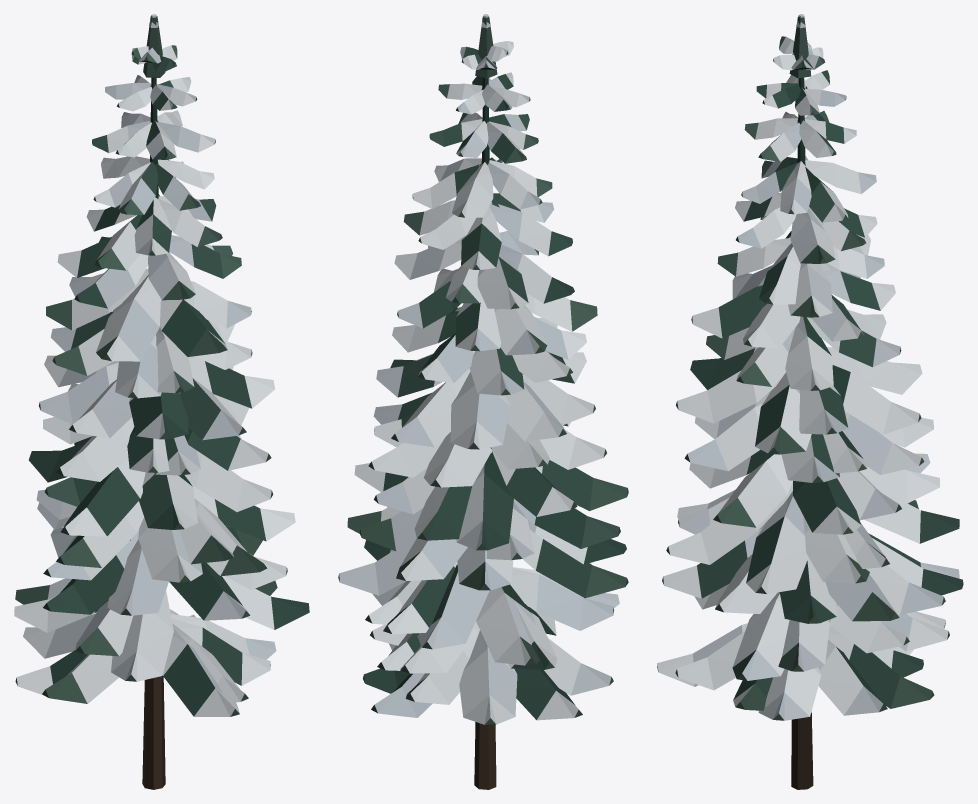
File: pine-snow.glb
The picture shows the model from 3 angles, left to right: view 1: azimuth 30°, elevation 25°; view 2: azimuth 150°, elevation 25°; view 3: azimuth 270°, elevation 25°; orthographic projection.
Parts seen in each view (by area): view 1: pine-snow; view 2: pine-snow; view 3: pine-snow.
Boxes of the visible parts, bbox=[...] form: pine-snow: bbox=[14, 14, 309, 789]; pine-snow: bbox=[338, 14, 628, 789]; pine-snow: bbox=[657, 14, 963, 789].
Size of the model in its own units: 3.34 by 9.72 by 3.5.
